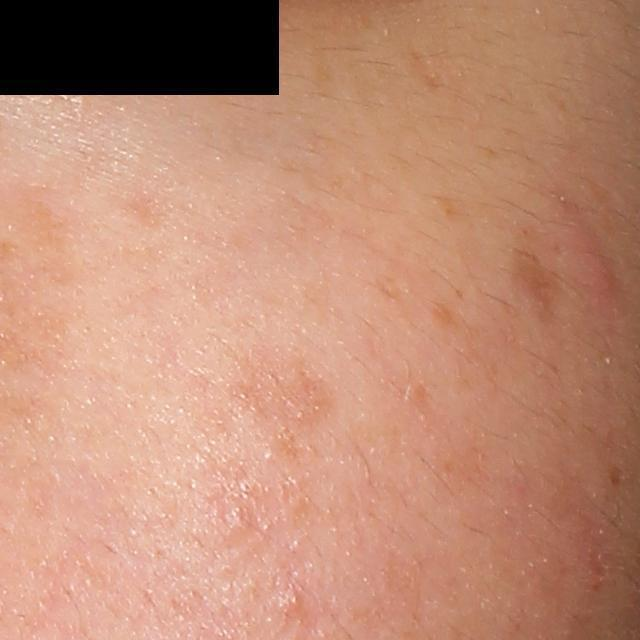comedo: (274, 583, 306, 618)
